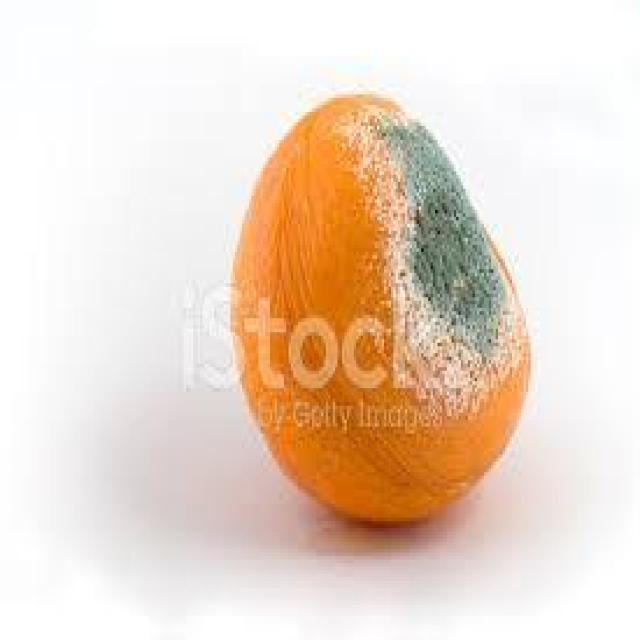organic: (228, 91, 533, 528)
